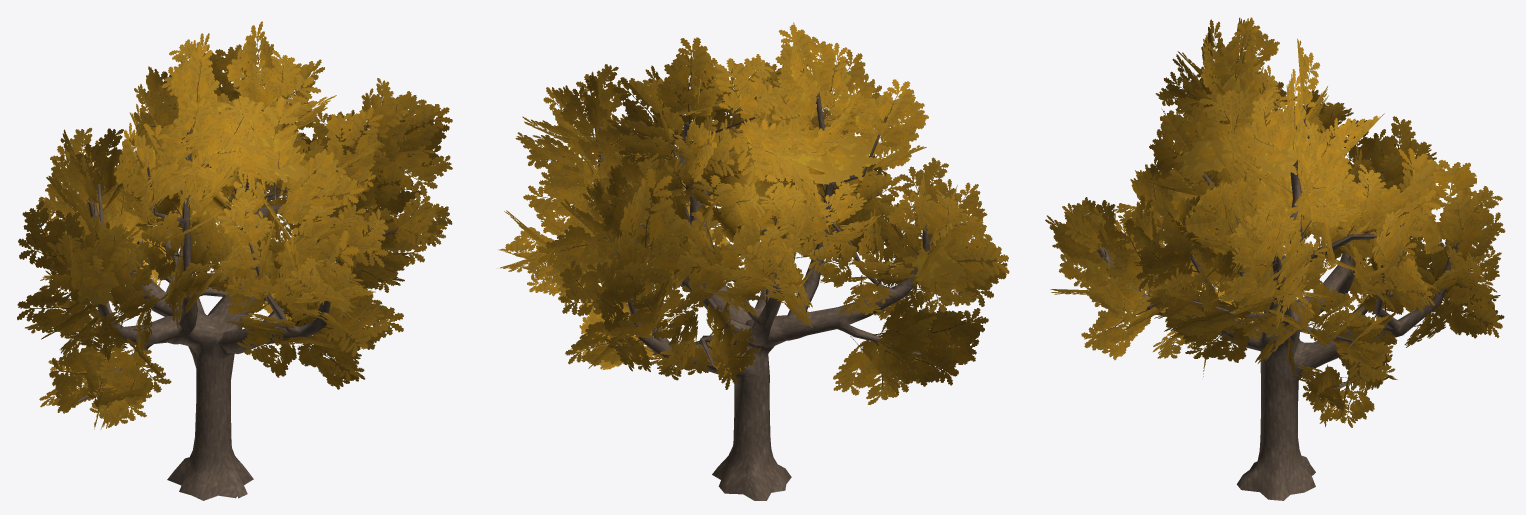
3 views of the same model, side by side, from view 1: azimuth 30°, elevation 25°; view 2: azimuth 150°, elevation 25°; view 3: azimuth 270°, elevation 25° (orthographic).
Visible parts, largest first — view 1: body0_model0_lod0_mesh0; view 2: body0_model0_lod0_mesh0; view 3: body0_model0_lod0_mesh0.
Part boxes in pixels (x1,y1,x2,y2): body0_model0_lod0_mesh0: (17, 21, 452, 500); body0_model0_lod0_mesh0: (499, 22, 1009, 500); body0_model0_lod0_mesh0: (1045, 17, 1505, 500).
Size of the model in its own units: 789 by 740 by 695.
1 material, 1 textured.
